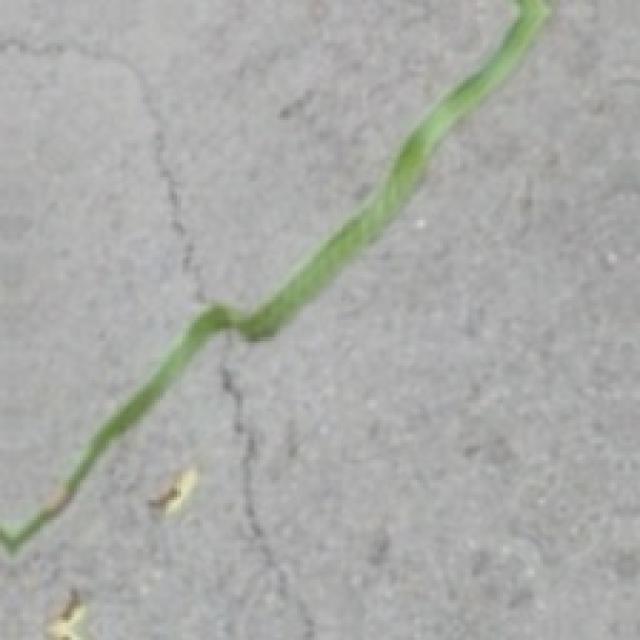red-tailed green ratsnake: (0, 0, 549, 551)
